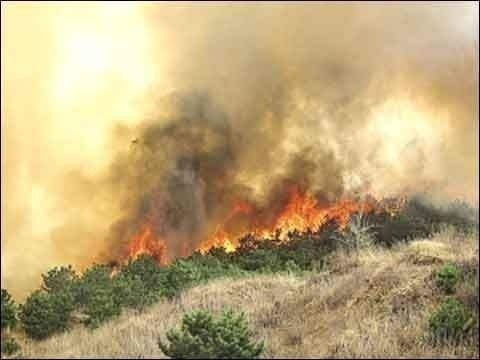fire: (190, 186, 364, 255), (117, 219, 175, 266)
